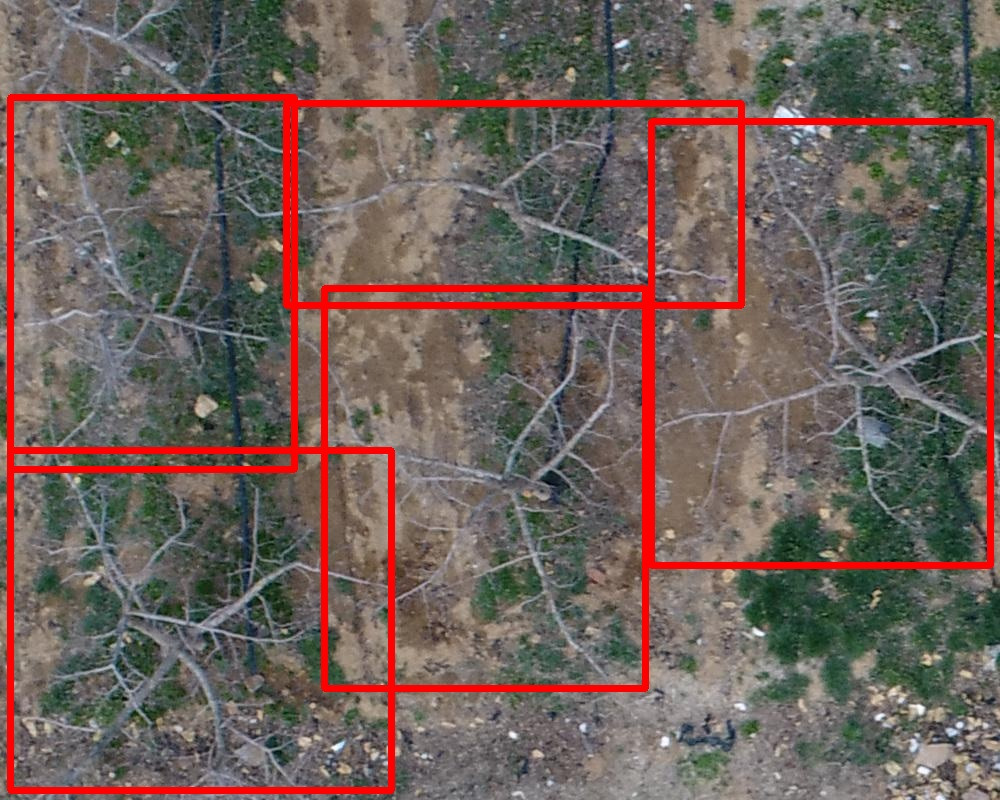apple: (651, 121, 990, 565), (10, 450, 391, 790), (324, 288, 645, 688), (10, 97, 294, 469), (286, 103, 741, 305)
